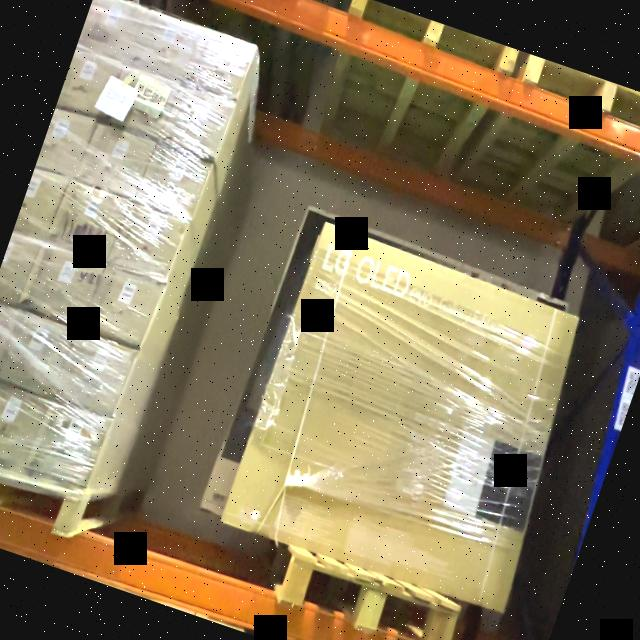box: (228, 232, 581, 604), (56, 330, 138, 418), (29, 403, 110, 489), (85, 266, 163, 348), (0, 310, 75, 395), (25, 246, 102, 326), (52, 182, 130, 260), (112, 203, 186, 280), (138, 145, 210, 218), (79, 125, 151, 197), (131, 12, 201, 82), (165, 88, 233, 158), (107, 68, 176, 136), (188, 32, 252, 101), (76, 0, 144, 63), (57, 49, 119, 118), (0, 382, 45, 467), (36, 108, 92, 176), (13, 171, 66, 240), (0, 235, 41, 304), (0, 301, 15, 374)
